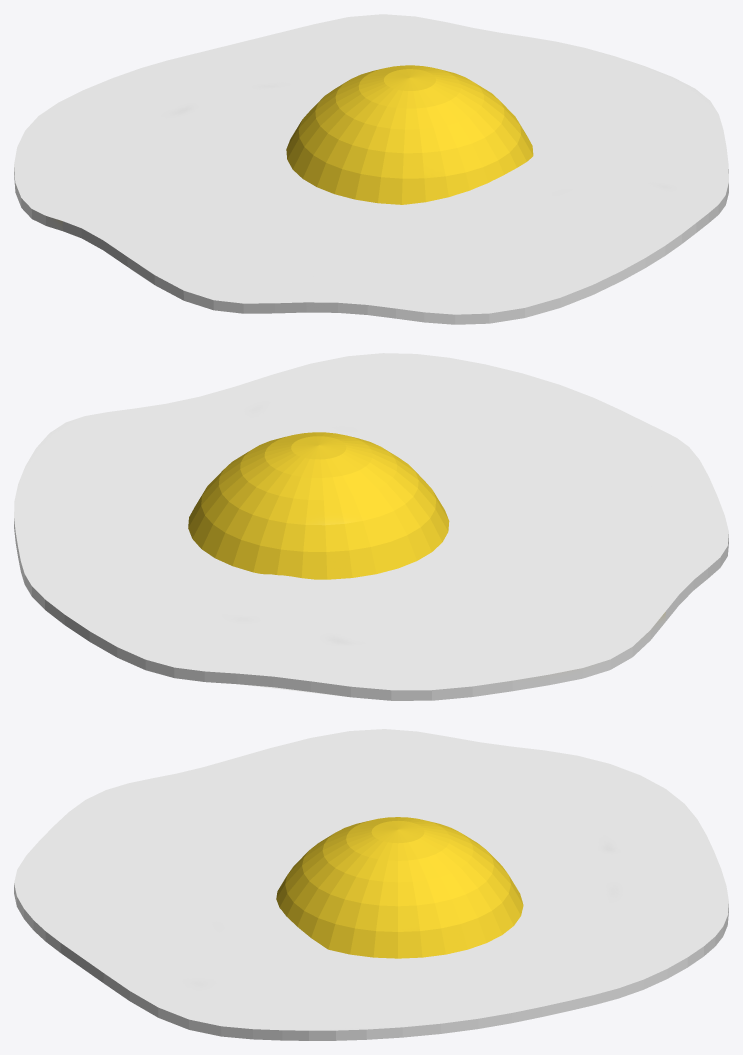
The model's file is egg inside.fbx.
3 views of the same model, one above another, from view 1: azimuth 30°, elevation 25°; view 2: azimuth 150°, elevation 25°; view 3: azimuth 270°, elevation 25° (orthographic). The views are drawn at different scales.
Parts seen in each view (by area): view 1: Egg; view 2: Egg; view 3: Egg.
Boxes of the visible parts, x1,y1,x2,y2 form: Egg: (14, 14, 728, 324); Egg: (14, 353, 728, 700); Egg: (14, 729, 728, 1040).
Size of the model in its own units: 26.42 by 3.91 by 26.5.
